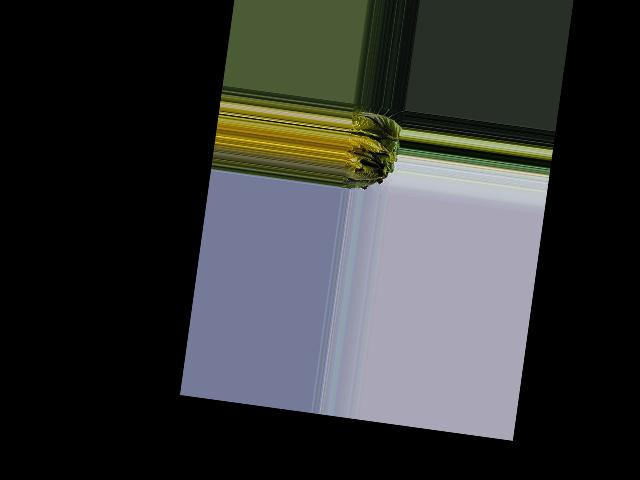lettuce: (341, 103, 402, 191)
